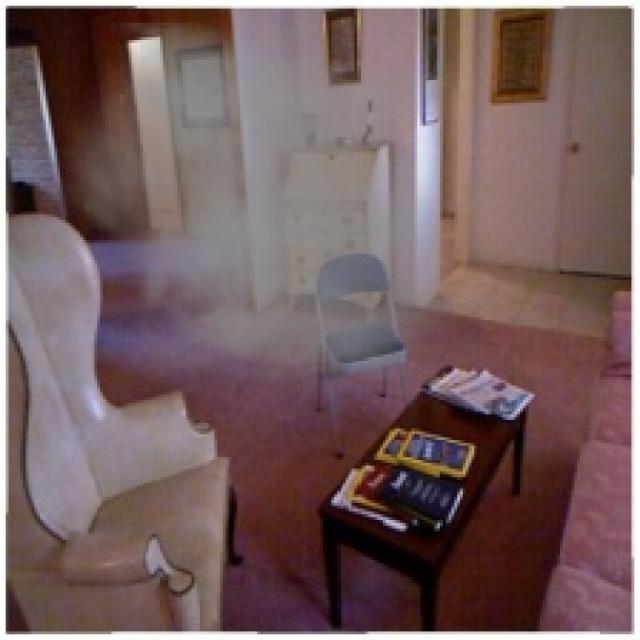Smoke: (49, 23, 458, 383)
